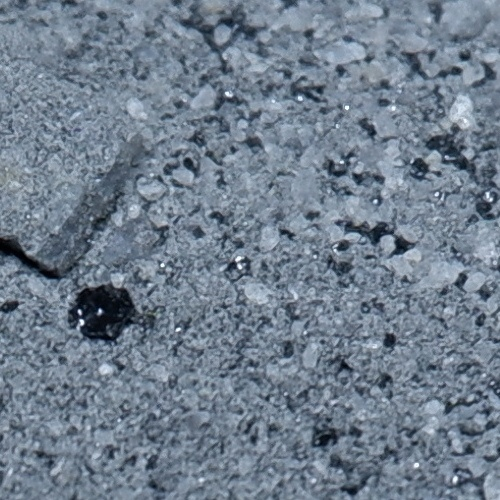glass: (66, 286, 137, 339), (441, 145, 472, 168), (225, 256, 251, 280), (310, 427, 338, 447), (409, 157, 430, 180), (327, 157, 351, 177), (428, 134, 456, 150), (447, 471, 471, 489), (272, 340, 295, 358), (479, 187, 500, 205), (330, 239, 351, 252), (2, 297, 20, 312), (185, 225, 205, 238), (476, 199, 493, 213), (384, 332, 396, 349), (483, 209, 500, 220)
